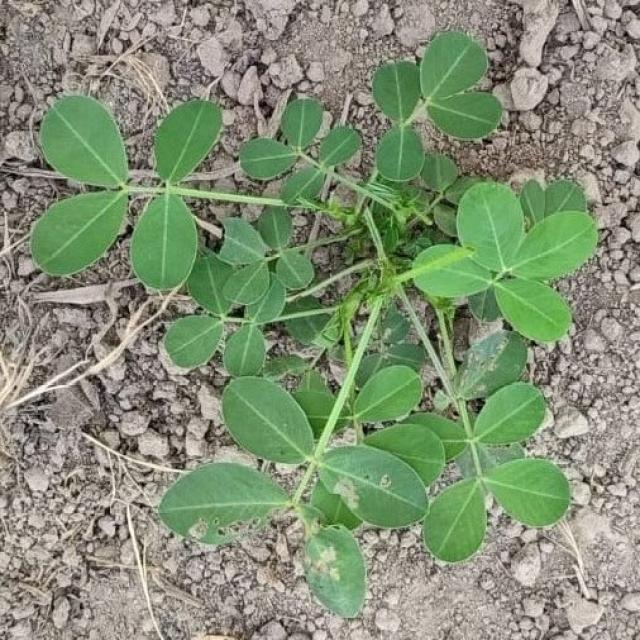plant: (29, 31, 600, 619)
